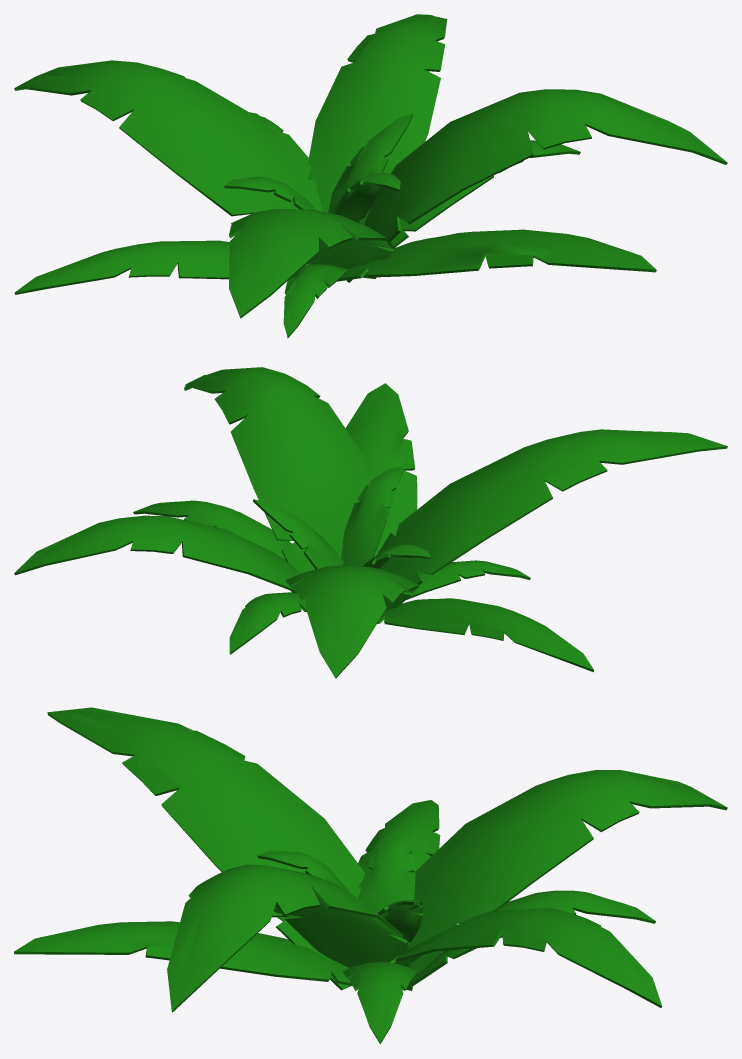
File: Farm_Fighter_Fern1_model.FBX
The picture shows the model from 3 angles, top to bottom: view 1: azimuth 30°, elevation 25°; view 2: azimuth 150°, elevation 25°; view 3: azimuth 270°, elevation 25°; orthographic projection. The views are drawn at different scales.
Visible parts, largest first — view 1: FernLeaf00; view 2: FernLeaf00; view 3: FernLeaf00.
Boxes of the visible parts, x1=… form: FernLeaf00: x1=14, y1=14, x2=727, y2=338; FernLeaf00: x1=14, y1=367, x2=727, y2=678; FernLeaf00: x1=14, y1=707, x2=727, y2=1044.
Size of the model in its own units: 223 by 66.13 by 230.
